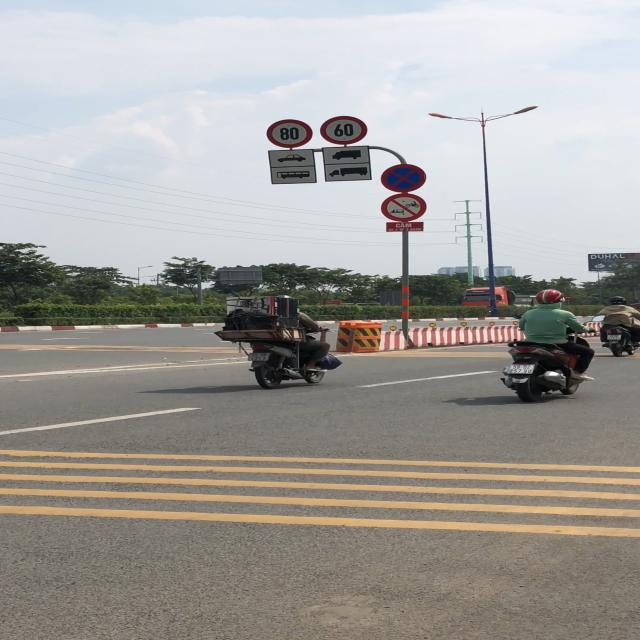Bien bao cam dung xe va do xe: (378, 164, 428, 192)
Bien bao toc do toi da cho phep: (319, 115, 371, 146), (264, 118, 316, 149)
